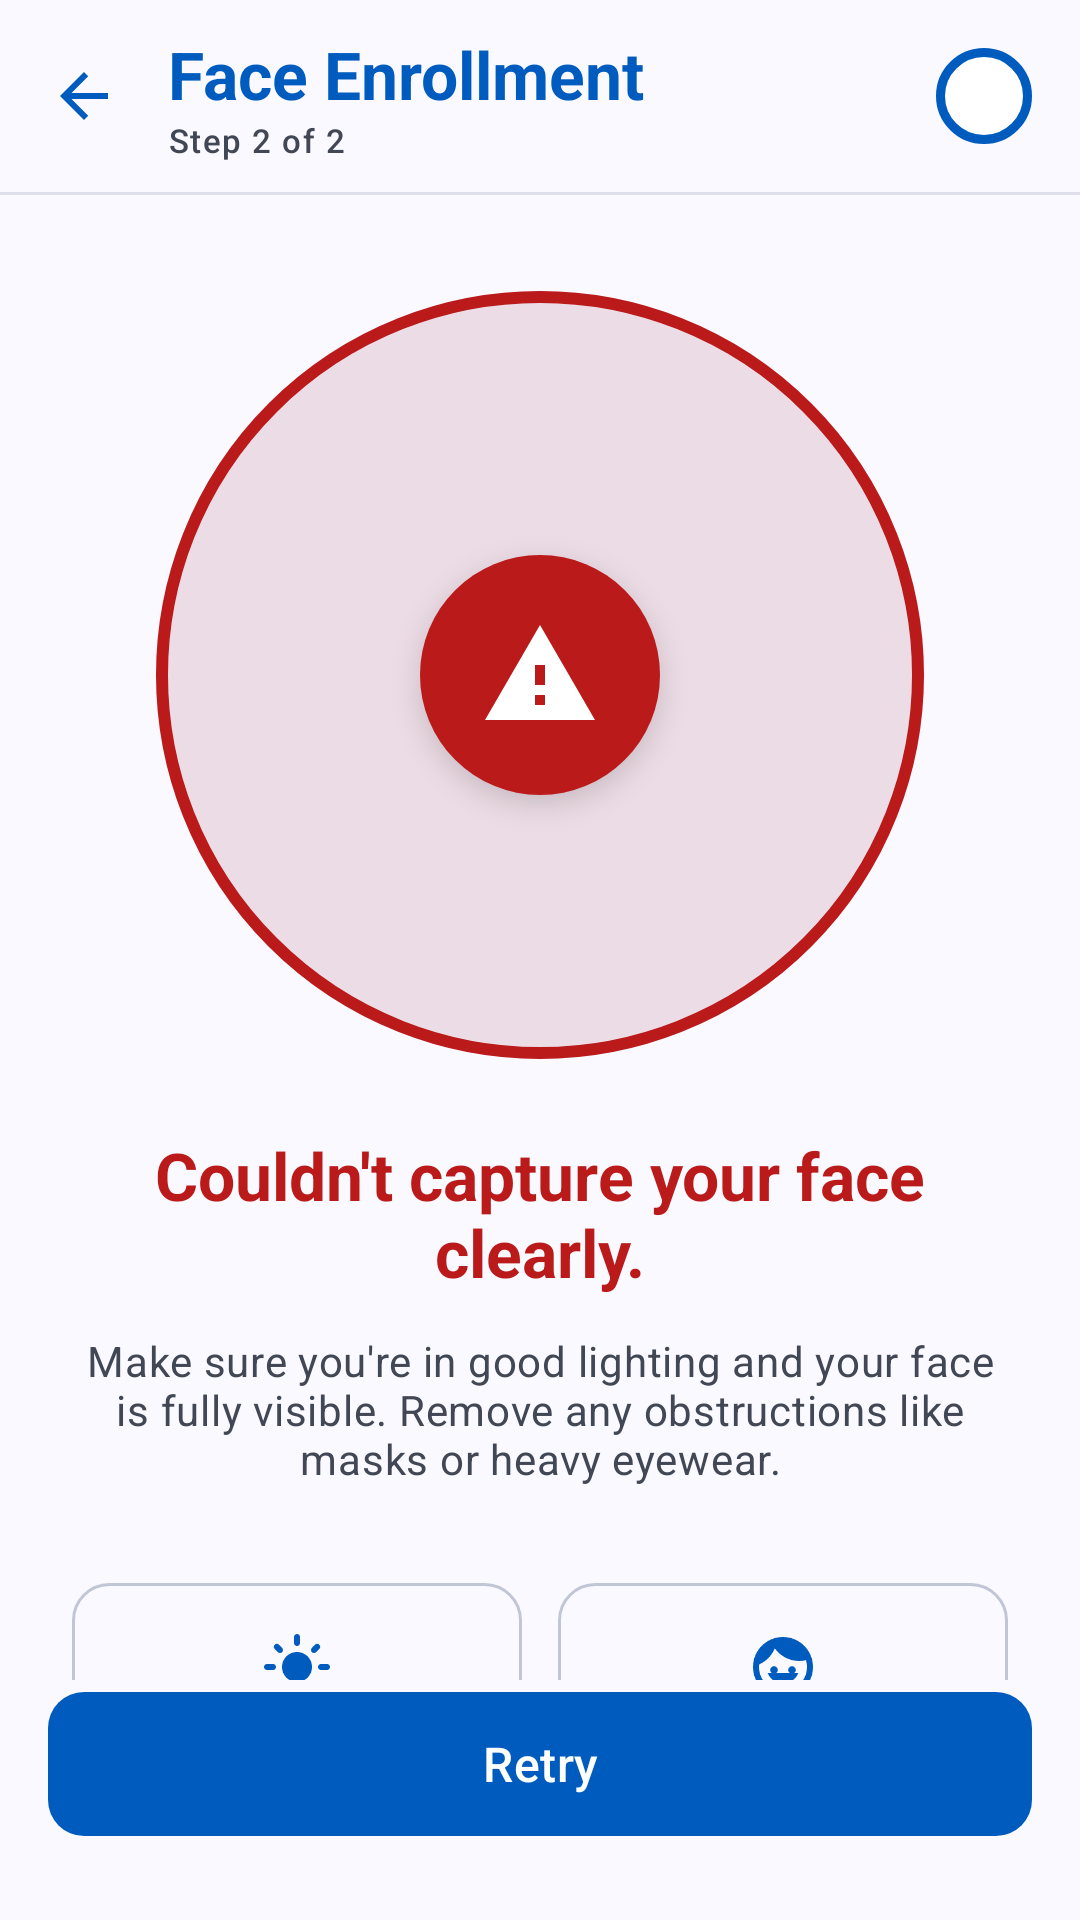

Where icons sit on this 1080px x 1920px app screen, as [x1=x1, y1=y1, x2=x2, y2=y2]:
warning: [x1=485, y1=625, x2=595, y2=720]
